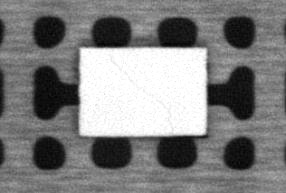DIE_CRACK: (109, 55, 176, 132)
